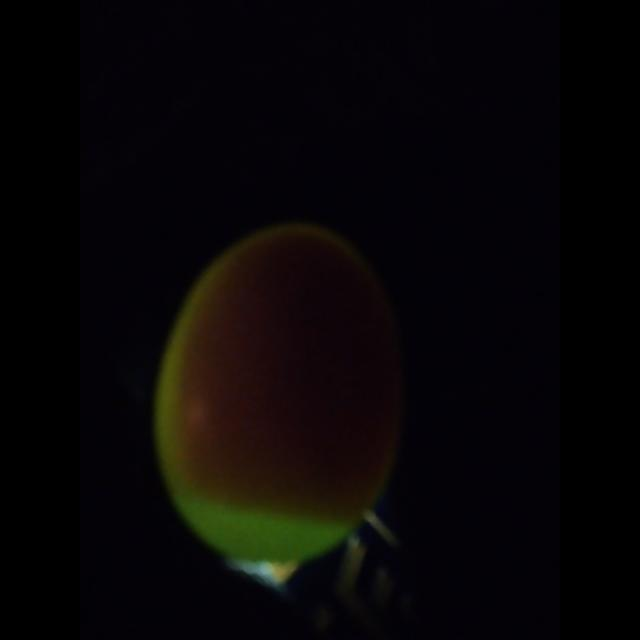Infertile: (156, 212, 414, 566)
